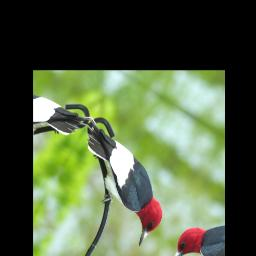Woodpecker: (48, 116, 188, 251)
